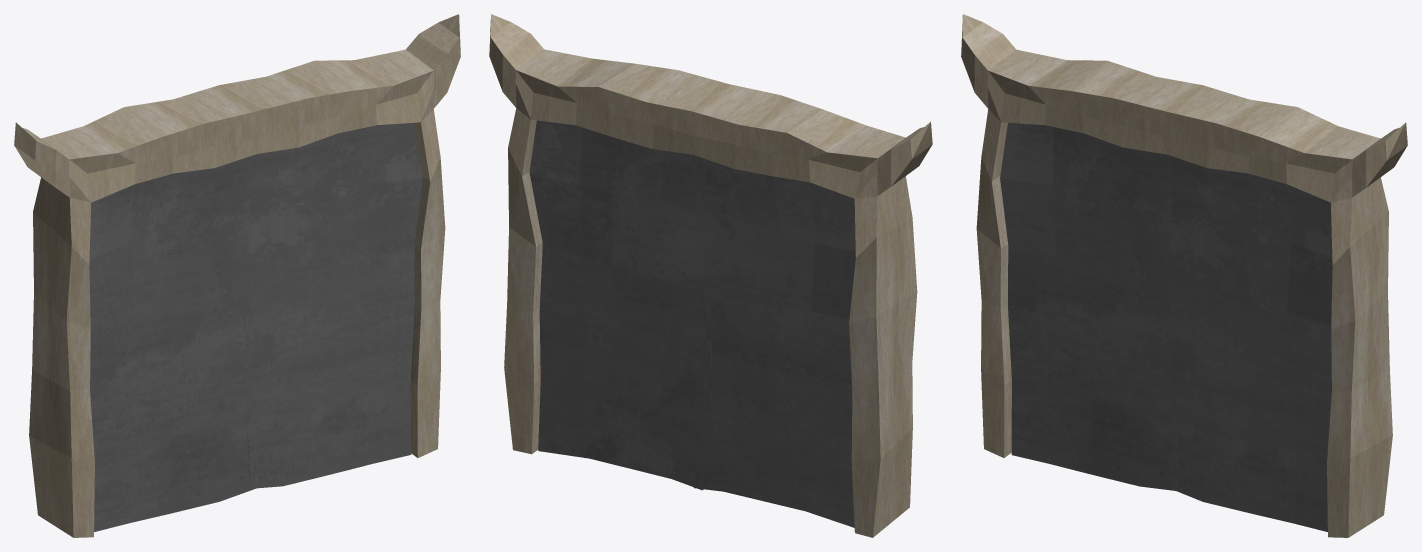
Rendered from DoorPrehistoricAnim.fbx.
The picture shows the model from 3 angles, left to right: view 1: azimuth 30°, elevation 25°; view 2: azimuth 150°, elevation 25°; view 3: azimuth 330°, elevation 25°; orthographic projection.
Visible parts, largest first — view 1: Cube, Cube.001, Cube.002; view 2: Cube, Cube.001, Cube.002; view 3: Cube, Cube.002, Cube.001.
Part boxes in pixels (x1=…): Cube: x1=14, y1=14, x2=460, y2=537; Cube.001: x1=243, y1=122, x2=422, y2=488; Cube.002: x1=89, y1=156, x2=259, y2=531; Cube: x1=489, y1=14, x2=932, y2=537; Cube.001: x1=529, y1=120, x2=711, y2=490; Cube.002: x1=692, y1=154, x2=855, y2=527; Cube: x1=961, y1=14, x2=1407, y2=537; Cube.002: x1=1000, y1=122, x2=1178, y2=491; Cube.001: x1=1163, y1=156, x2=1332, y2=531.
Bounding box in the file's own units: 817 × 733 × 142.
2 materials, 2 textured.
